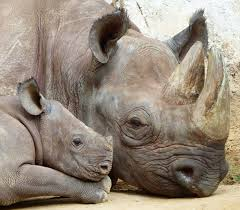Rhinoceros: (19, 7, 234, 203)
